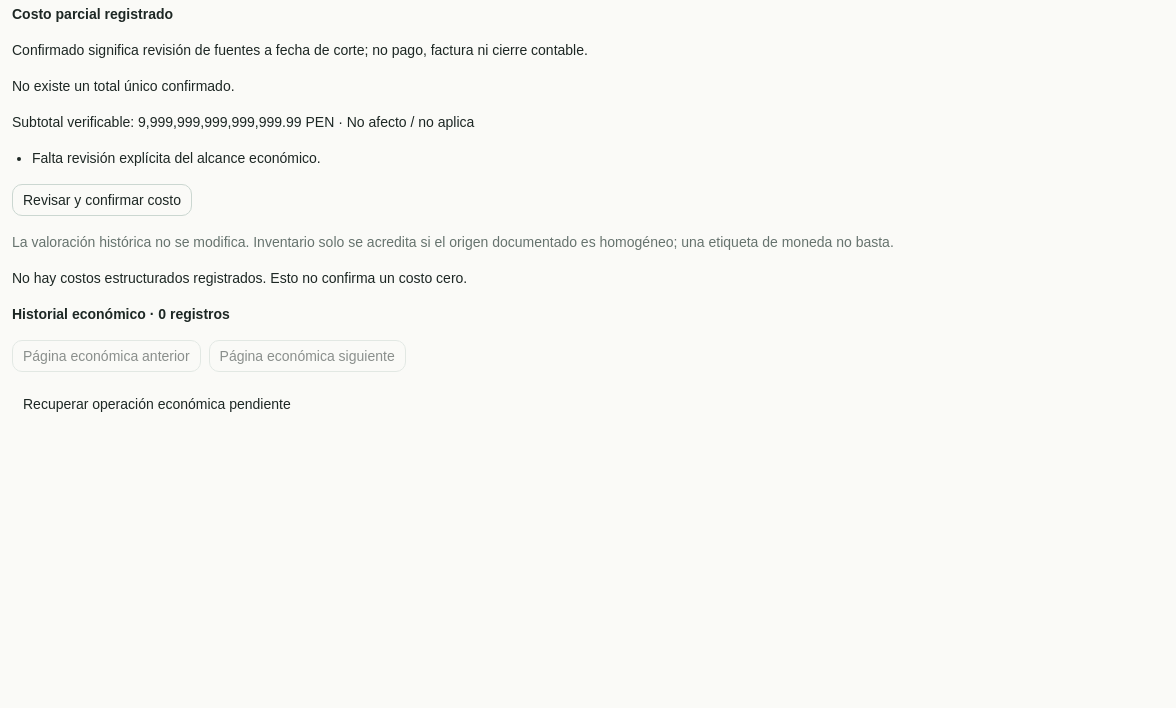
Scenario: R14 sección económica › el permiso de confirmación no concede gestión y exige aceptación del alcance
The width and height of the screenshot is (1176, 708).
Click the button "Revisar y confirmar costo" at (102, 200), box [12, 184, 192, 216]
(page scrolled)
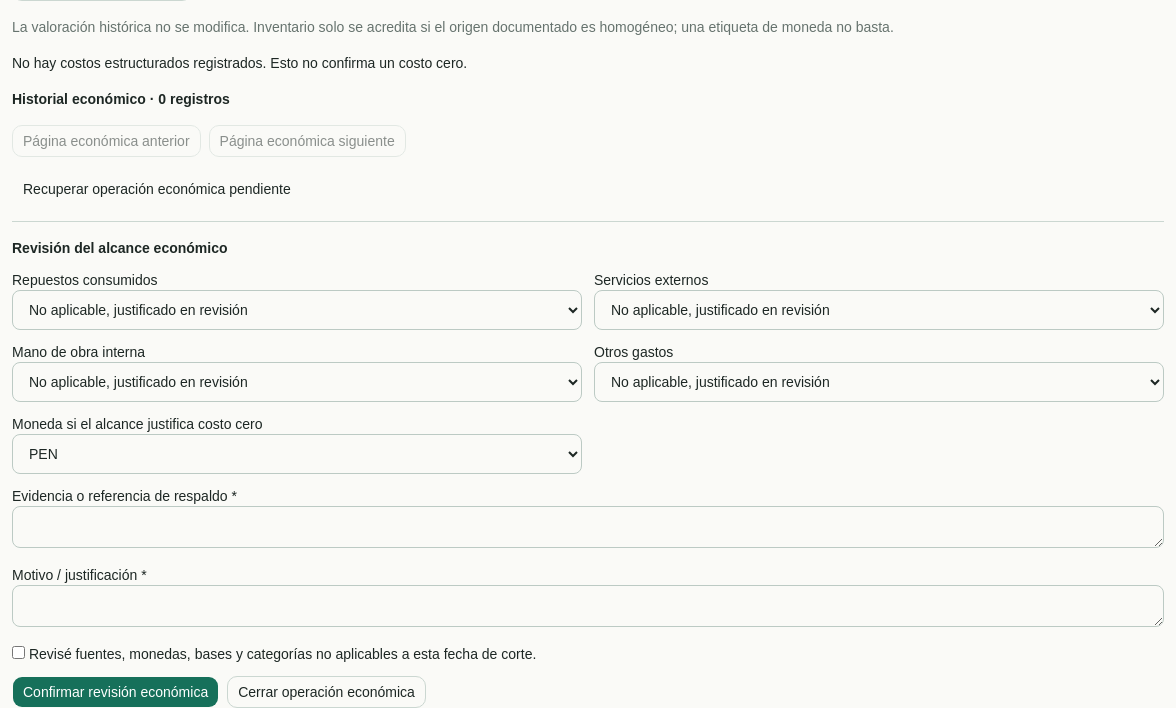
Submit the form named "Operación económica"
(page scrolled)
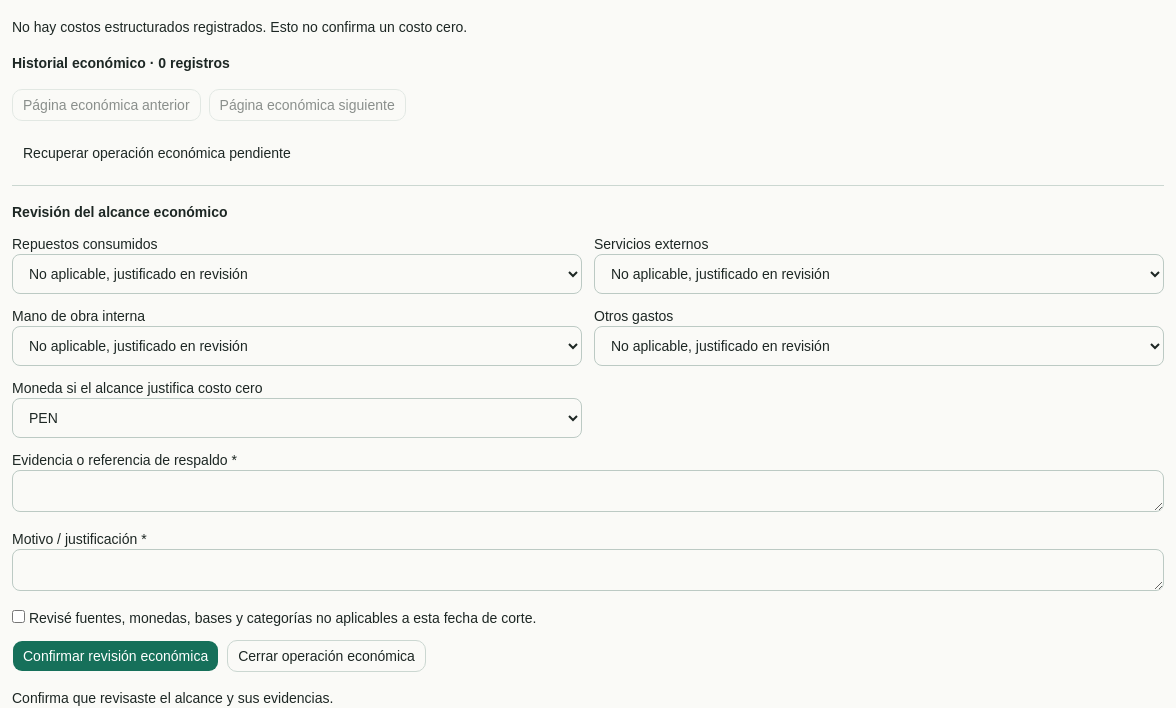
Check: the text "Revisé fuentes" is shown, box [25, 610, 536, 626]
Check: the text "Confirma que revisaste el alcance y sus evidencias." is shown, box [12, 690, 333, 706]
